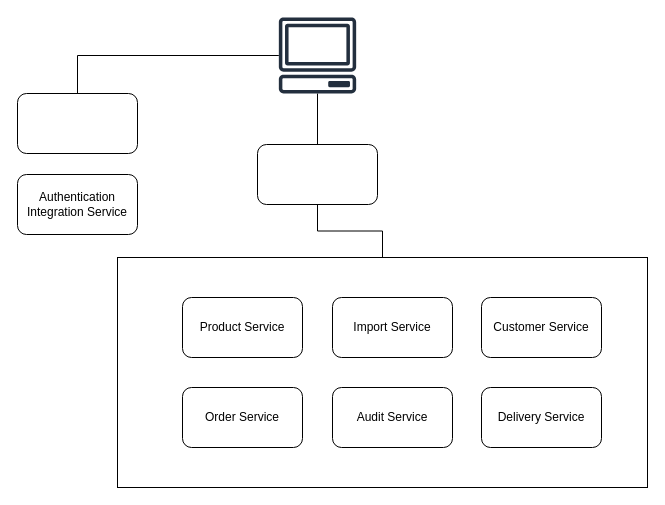
Image size: 665x505. Some labels were removed from this diagram. Each missing label, with the box of its shape:
API Gateway: (256, 144, 378, 204)
Authentication Server: (16, 92, 138, 154)
